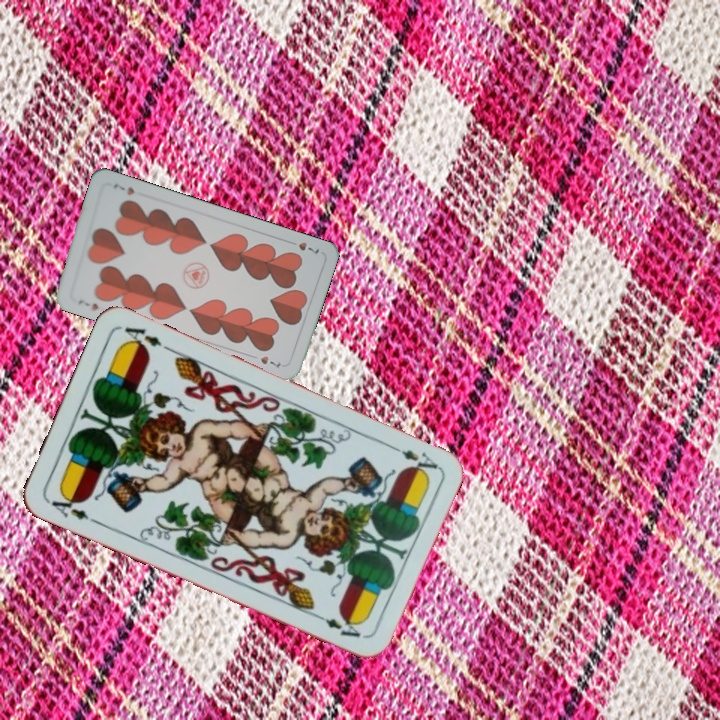EA: (44, 489, 100, 526), (384, 441, 441, 475)
H7: (284, 236, 322, 257), (74, 295, 101, 313)
